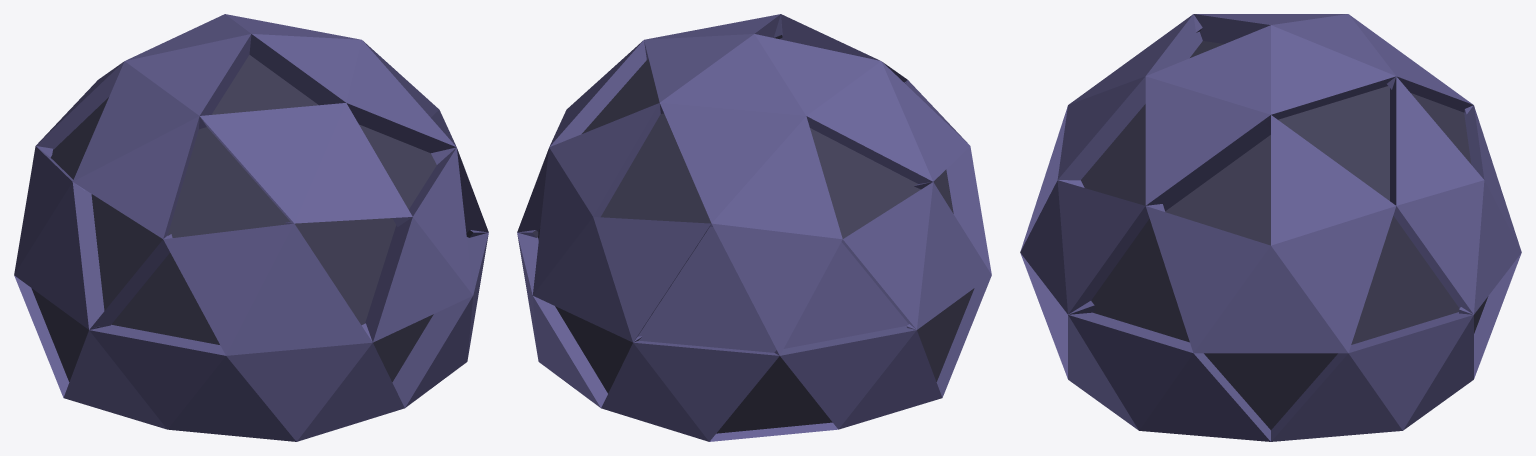
File: stone.fbx
3 views of the same model, side by side, from view 1: azimuth 30°, elevation 25°; view 2: azimuth 150°, elevation 25°; view 3: azimuth 270°, elevation 25° (orthographic). The views are drawn at different scales.
Parts seen in each view (by area): view 1: Stone; view 2: Stone; view 3: Stone.
Boxes of the visible parts, x1,y1,x2,y2 form: Stone: [14, 14, 488, 441]; Stone: [517, 14, 991, 441]; Stone: [1020, 14, 1521, 441].
Size of the model in its own units: 335 by 255 by 352.
